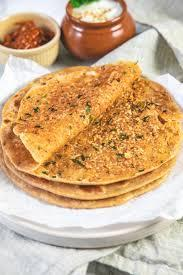paratha: (2, 67, 181, 197)
